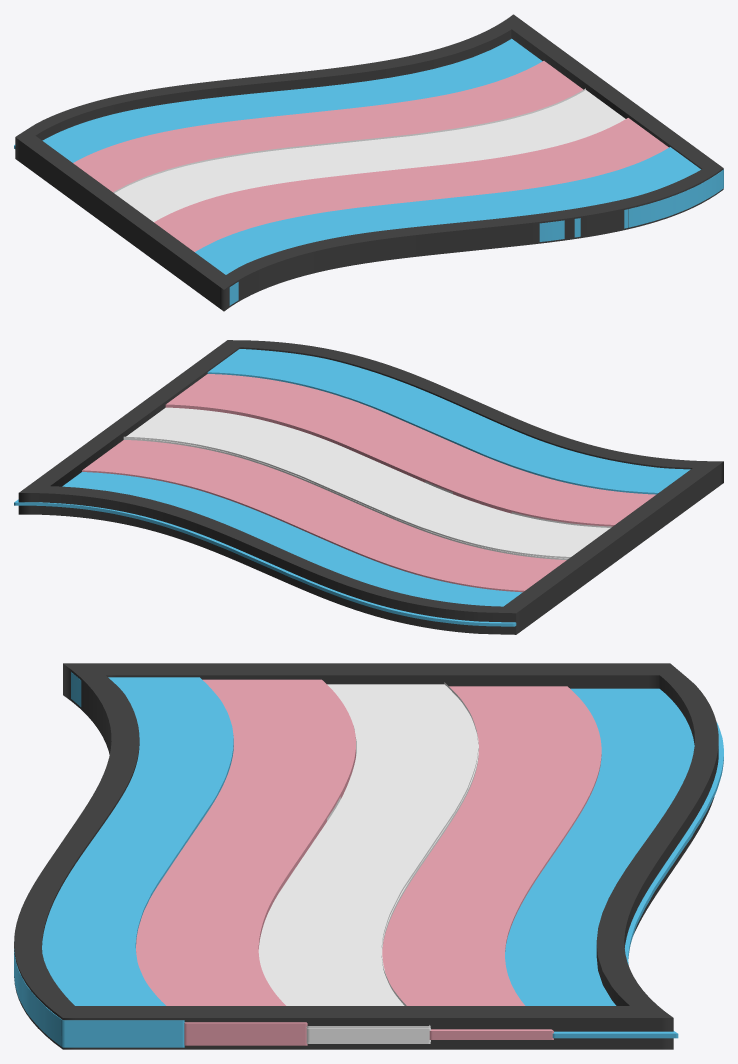
Rendered from emoji_u1f3f3_200d_26a7.glb.
3 renders of one model, top to bottom at view 1: azimuth 30°, elevation 25°; view 2: azimuth 150°, elevation 25°; view 3: azimuth 270°, elevation 25°, orthographic. The views are drawn at different scales.
Visible parts, largest first — view 1: emoji_u1f3f3_200d_26a7; view 2: emoji_u1f3f3_200d_26a7; view 3: emoji_u1f3f3_200d_26a7.
Part boxes in pixels (<box>): emoji_u1f3f3_200d_26a7: <box>14,14,723,311</box>; emoji_u1f3f3_200d_26a7: <box>14,340,723,634</box>; emoji_u1f3f3_200d_26a7: <box>14,663,723,1049</box>.
Size of the model in its own units: 0.0339 by 0.0014 by 0.0285.
